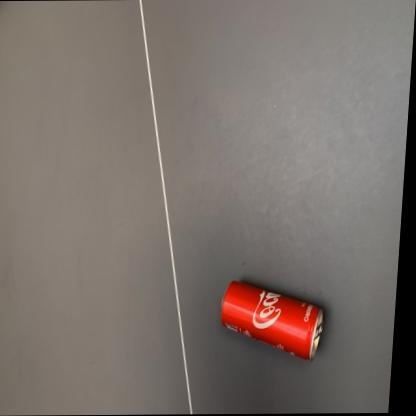trash: (222, 281, 323, 359)
